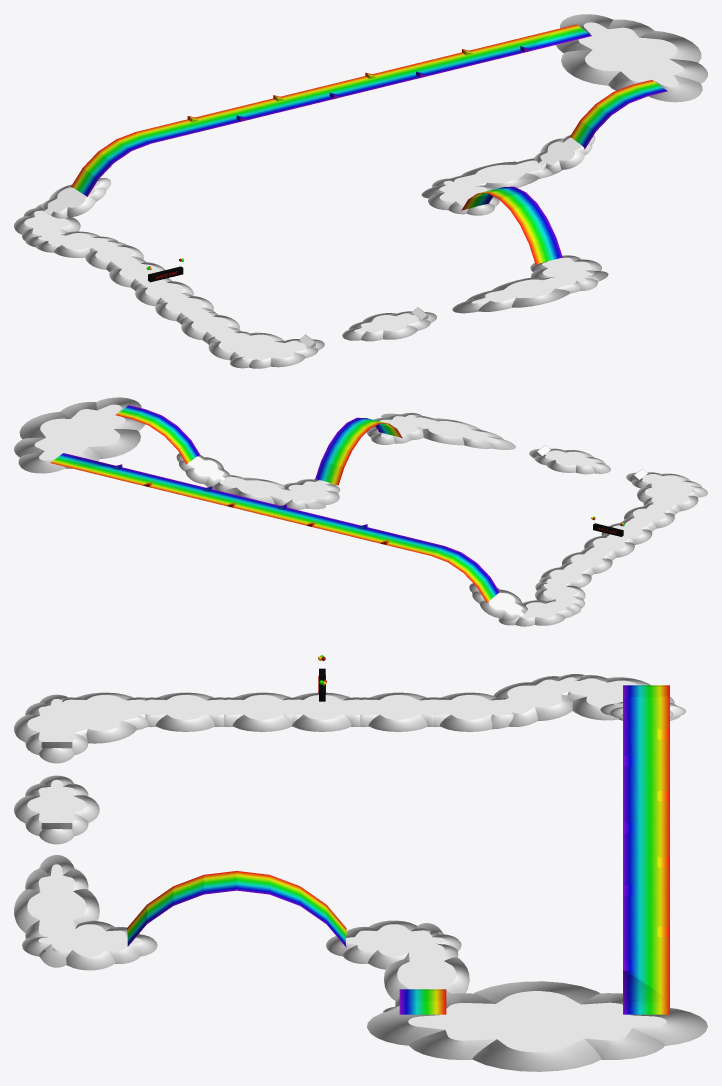
3 renders of one model, top to bottom at view 1: azimuth 30°, elevation 25°; view 2: azimuth 150°, elevation 25°; view 3: azimuth 270°, elevation 25°, orthographic. The views are drawn at different scales.
Parts seen in each view (by area): view 1: rainbow_bridge-GRP-137447-nuage, rainbow_bridge-GRP-506-road_rainbow_trickable_16_5_1, rainbow_bridge-GRP-151774-nuage, rainbow_bridge-GRP-138575-Road_rainbow_16_5, rainbow_bridge-GRP-190391-nuage, rainbow_bridge-GRP-138574-nuage, rainbow_bridge-GRP-229008-nuage, rainbow_bridge-GRP-111515-rainbow, rainbow_bridge-GRP-137448-rainbow, rainbow_bridge-GRP-190392-nuage, rainbow_bridge-GRP-229017-nuage, rainbow_bridge-GRP-229016-nuage (+10 smaller); view 2: rainbow_bridge-GRP-137447-nuage, rainbow_bridge-GRP-506-road_rainbow_trickable_16_5_1, rainbow_bridge-GRP-151774-nuage, rainbow_bridge-GRP-138575-Road_rainbow_16_5, rainbow_bridge-GRP-190391-nuage, rainbow_bridge-GRP-138574-nuage, rainbow_bridge-GRP-229018-nuage, rainbow_bridge-GRP-111515-rainbow, rainbow_bridge-GRP-190392-nuage, rainbow_bridge-GRP-137448-rainbow, rainbow_bridge-GRP-229017-nuage, rainbow_bridge-GRP-151775-nuage (+10 smaller); view 3: rainbow_bridge-GRP-137447-nuage, rainbow_bridge-GRP-506-road_rainbow_trickable_16_5_1, rainbow_bridge-GRP-151774-nuage, rainbow_bridge-GRP-138575-Road_rainbow_16_5, rainbow_bridge-GRP-151775-nuage, rainbow_bridge-GRP-138574-nuage, rainbow_bridge-GRP-190391-nuage, rainbow_bridge-GRP-190392-nuage, rainbow_bridge-GRP-229008-nuage, rainbow_bridge-GRP-229016-nuage, rainbow_bridge-GRP-229011-nuage, rainbow_bridge-GRP-229014-nuage (+7 smaller).
Boxes of the visible parts, box(x1,y1,x2,y2) form: rainbow_bridge-GRP-137447-nuage: box(556, 14, 707, 102); rainbow_bridge-GRP-506-road_rainbow_trickable_16_5_1: box(136, 24, 591, 143); rainbow_bridge-GRP-151774-nuage: box(452, 271, 608, 313); rainbow_bridge-GRP-138575-Road_rainbow_16_5: box(461, 186, 562, 264); rainbow_bridge-GRP-190391-nuage: box(421, 158, 562, 198); rainbow_bridge-GRP-138574-nuage: box(342, 311, 436, 341); rainbow_bridge-GRP-229008-nuage: box(230, 339, 324, 368); rainbow_bridge-GRP-111515-rainbow: box(71, 132, 150, 196); rainbow_bridge-GRP-137448-rainbow: box(570, 84, 647, 149); rainbow_bridge-GRP-190392-nuage: box(428, 178, 499, 215); rainbow_bridge-GRP-229017-nuage: box(41, 177, 111, 218); rainbow_bridge-GRP-229016-nuage: box(25, 231, 126, 257); rainbow_bridge-GRP-137447-nuage: box(14, 397, 144, 473); rainbow_bridge-GRP-506-road_rainbow_trickable_16_5_1: box(50, 453, 444, 555); rainbow_bridge-GRP-151774-nuage: box(381, 413, 515, 449); rainbow_bridge-GRP-138575-Road_rainbow_16_5: box(315, 417, 402, 485); rainbow_bridge-GRP-190391-nuage: box(204, 474, 325, 509); rainbow_bridge-GRP-138574-nuage: box(529, 448, 610, 474); rainbow_bridge-GRP-229018-nuage: box(498, 600, 581, 626); rainbow_bridge-GRP-111515-rainbow: box(431, 546, 499, 602); rainbow_bridge-GRP-190392-nuage: box(284, 479, 340, 509); rainbow_bridge-GRP-137448-rainbow: box(132, 409, 200, 464); rainbow_bridge-GRP-229017-nuage: box(469, 583, 527, 620); rainbow_bridge-GRP-151775-nuage: box(367, 412, 423, 444); rainbow_bridge-GRP-137447-nuage: box(367, 981, 707, 1071); rainbow_bridge-GRP-506-road_rainbow_trickable_16_5_1: box(623, 696, 669, 1014); rainbow_bridge-GRP-151774-nuage: box(14, 855, 99, 967); rainbow_bridge-GRP-138575-Road_rainbow_16_5: box(126, 871, 346, 947); rainbow_bridge-GRP-151775-nuage: box(22, 920, 157, 970); rainbow_bridge-GRP-138574-nuage: box(14, 775, 99, 844); rainbow_bridge-GRP-190391-nuage: box(384, 923, 469, 1006); rainbow_bridge-GRP-190392-nuage: box(326, 920, 461, 969); rainbow_bridge-GRP-229008-nuage: box(14, 694, 88, 763); rainbow_bridge-GRP-229016-nuage: box(491, 674, 583, 729); rainbow_bridge-GRP-229011-nuage: box(126, 692, 245, 731); rainbow_bridge-GRP-229014-nuage: box(339, 692, 457, 731).
Bounding box in the file's own units: 63526 × 5927 × 39279.
14 materials, 12 textured.
